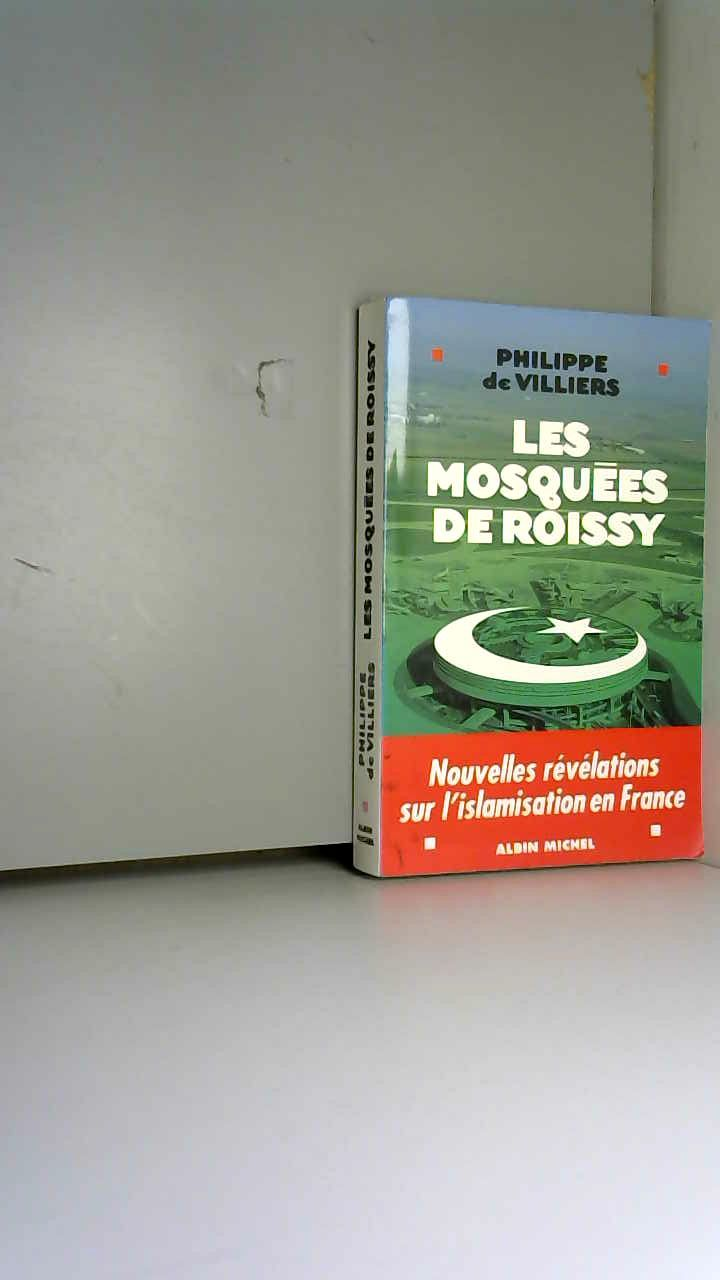book: (320, 270, 718, 905)
